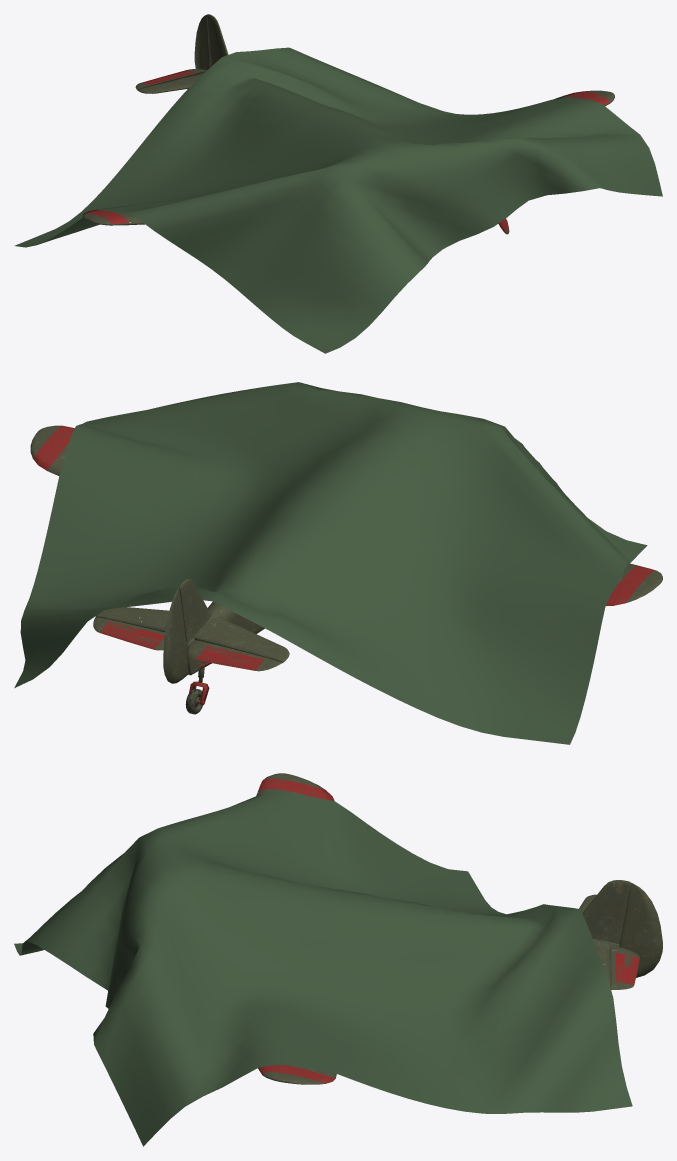
The model's file is AirCraft-Covered.fbx.
The picture shows the model from 3 angles, top to bottom: view 1: azimuth 30°, elevation 25°; view 2: azimuth 150°, elevation 25°; view 3: azimuth 270°, elevation 25°; orthographic projection. The views are drawn at different scales.
Parts seen in each view (by area): view 1: covered; view 2: covered; view 3: covered.
Part boxes in pixels (x1,y1,x2,y2): covered: (14,14,662,353); covered: (14,382,662,744); covered: (14,773,662,1146).
Bounding box in the file's own units: 1389 × 325 × 1238.
